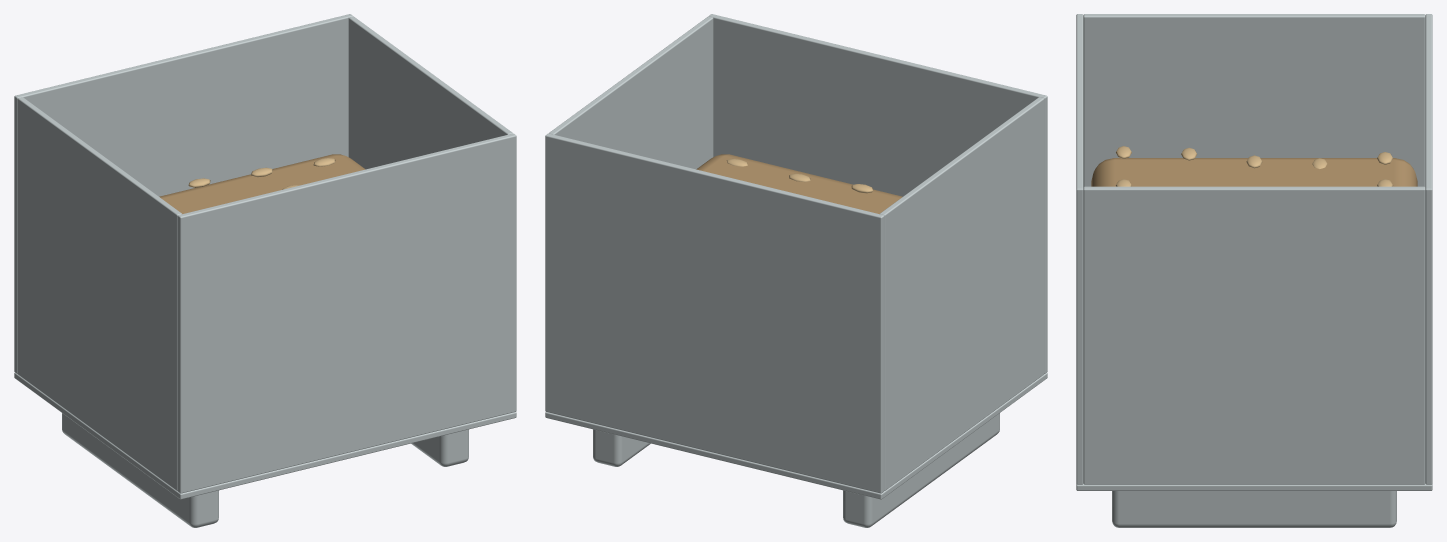
Rendered from mushroom-farm-and-grow-rooms-sawdust-ingredient-bin-142adef1__30804.glb.
The picture shows the model from 3 angles, left to right: view 1: azimuth 30°, elevation 25°; view 2: azimuth 150°, elevation 25°; view 3: azimuth 270°, elevation 25°; orthographic projection. The views are drawn at different scales.
Parts seen in each view (by area): view 1: sawdust-ingredient-bin; view 2: sawdust-ingredient-bin; view 3: sawdust-ingredient-bin.
Part boxes in pixels (x1,y1,x2,y2): sawdust-ingredient-bin: (14, 14, 516, 527); sawdust-ingredient-bin: (545, 14, 1047, 527); sawdust-ingredient-bin: (1076, 14, 1432, 527).
Bounding box in the file's own units: 0.7 × 0.662 × 0.6.
